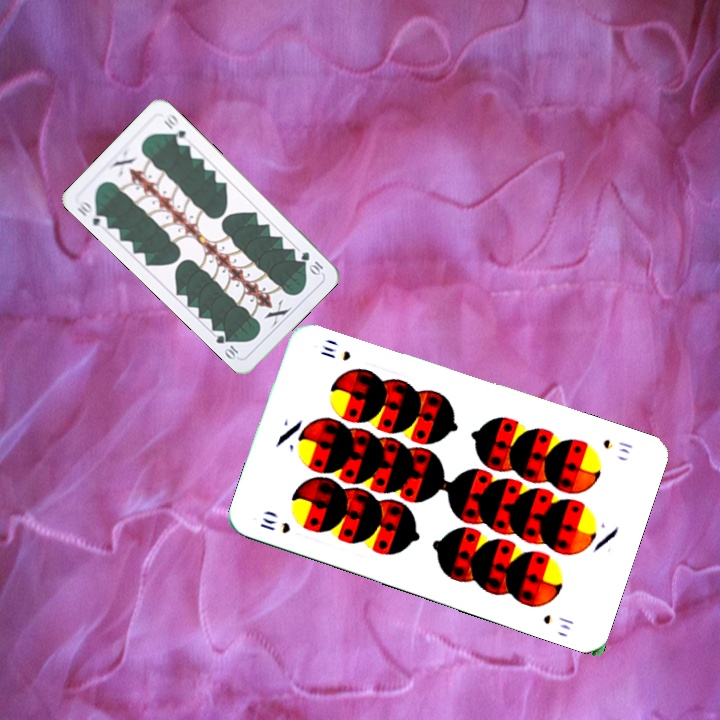G10: (73, 196, 110, 229), (297, 247, 326, 278)
S10: (256, 513, 293, 536), (599, 435, 635, 457)
